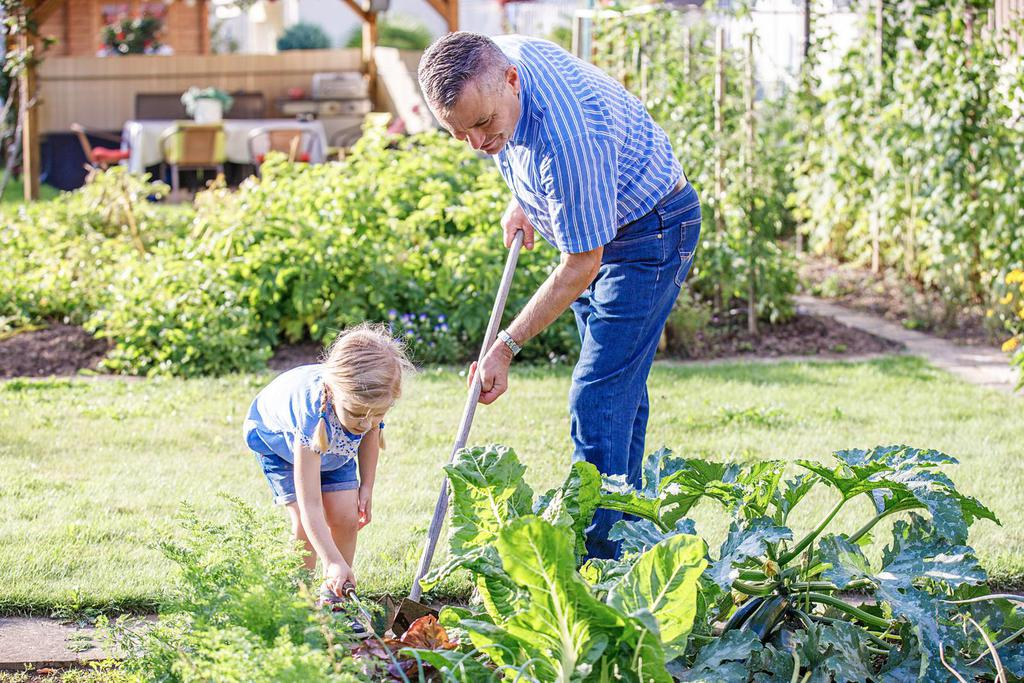child: (241, 314, 406, 606)
